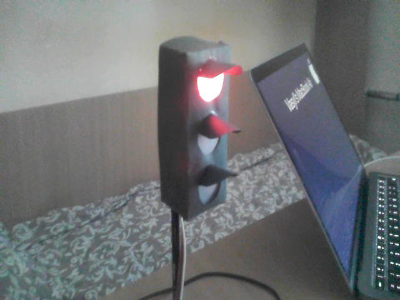trafficlight_red: (187, 47, 231, 209)
